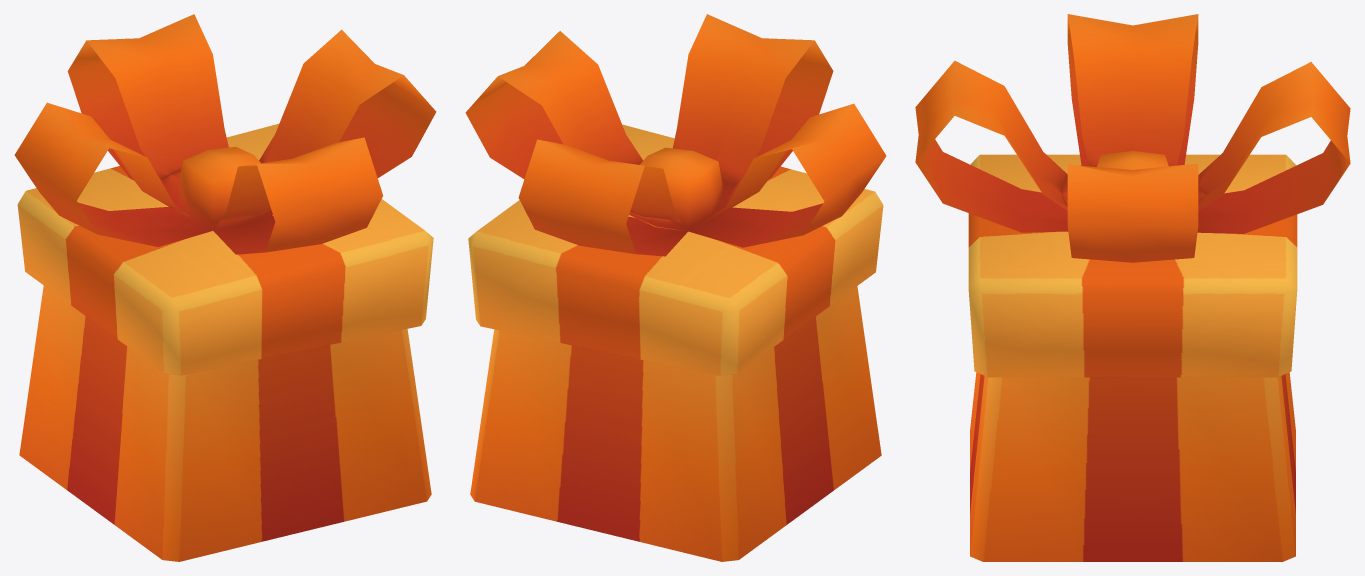
The model's file is gift.glb.
3 views of the same model, side by side, from view 1: azimuth 30°, elevation 25°; view 2: azimuth 150°, elevation 25°; view 3: azimuth 270°, elevation 25° (orthographic). The views are drawn at different scales.
Visible parts, largest first — view 1: Cube; view 2: Cube; view 3: Cube.
Part boxes in pixels (left/top/right/bottom): Cube: left=14, top=14, right=436, bottom=561; Cube: left=465, top=14, right=886, bottom=561; Cube: left=915, top=14, right=1350, bottom=561.
Bounding box in the file's own units: 1.22 × 1.25 × 1.22.
Materials: 1 (1 with a texture image).
